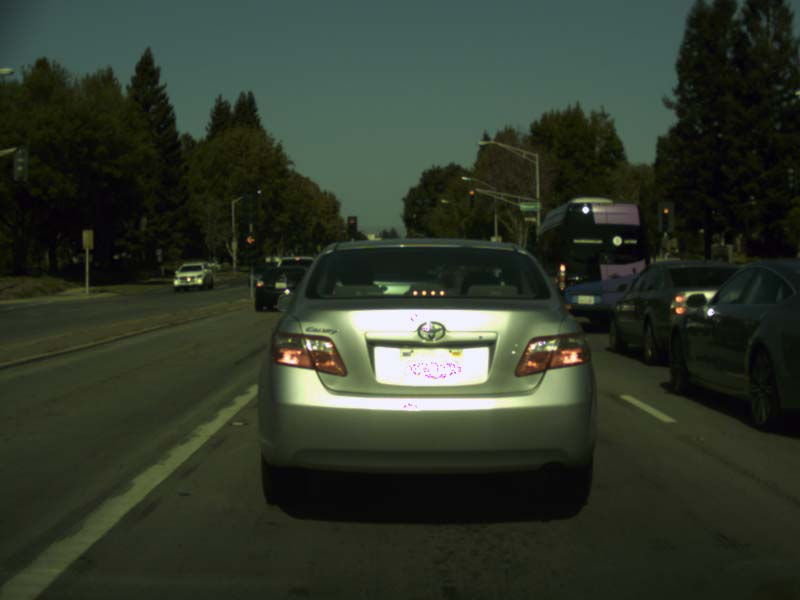Red: (243, 231, 258, 265), (347, 216, 356, 236), (661, 207, 668, 229), (468, 189, 475, 207)
